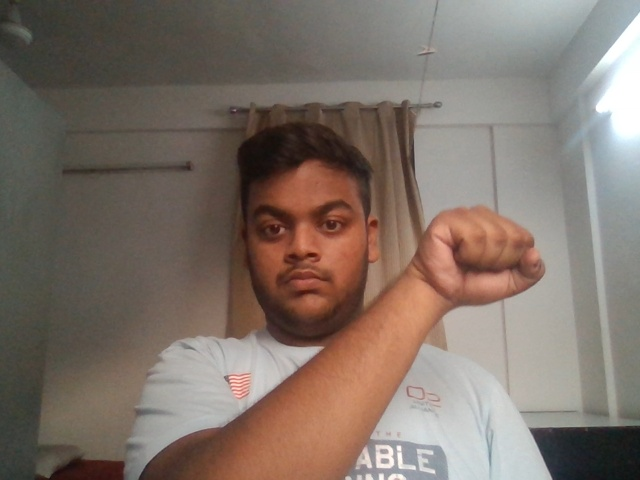Yes: (392, 170, 578, 376)
